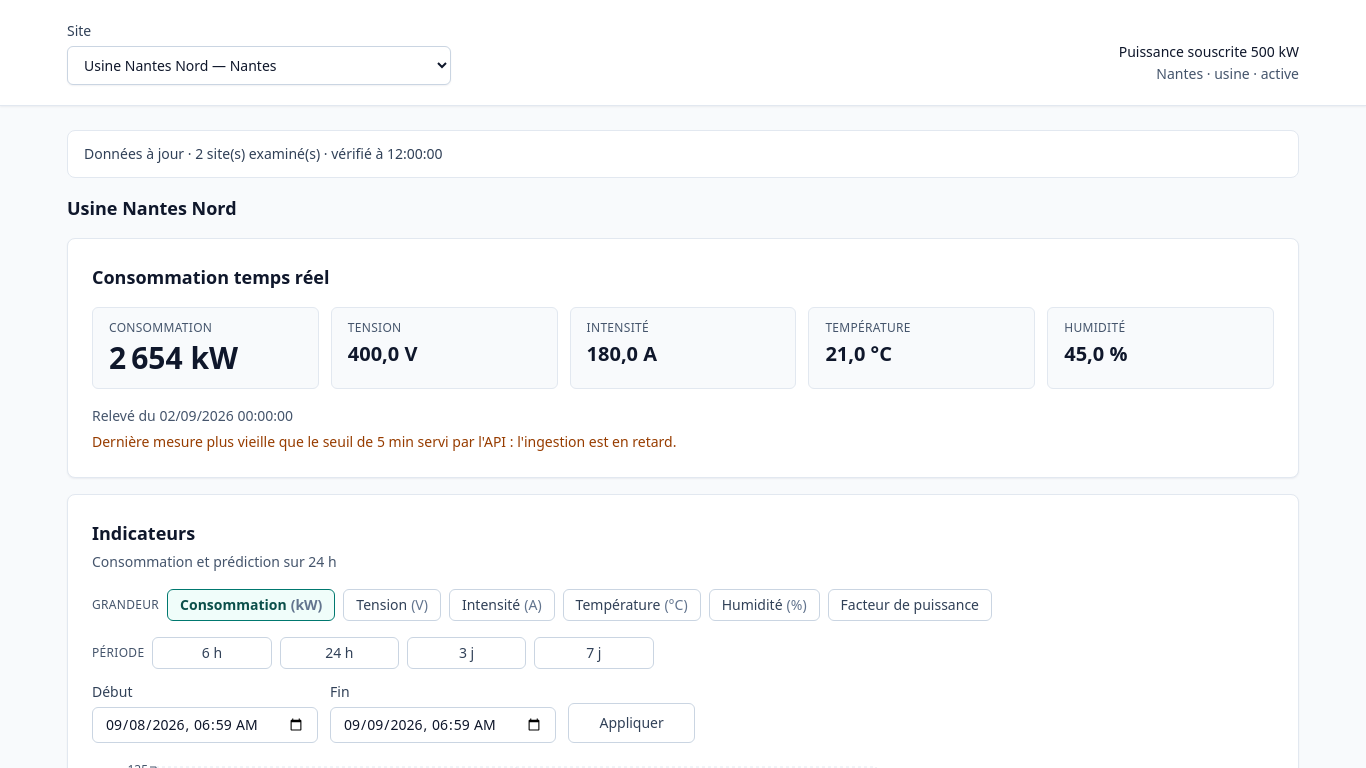
Test: SiteDashboardPage · grandeur tracée › dit que le modèle ne prévoit que la consommation
Click the button "Tension (V)" at (392, 605), box [343,589,441,621]
(page scrolled)
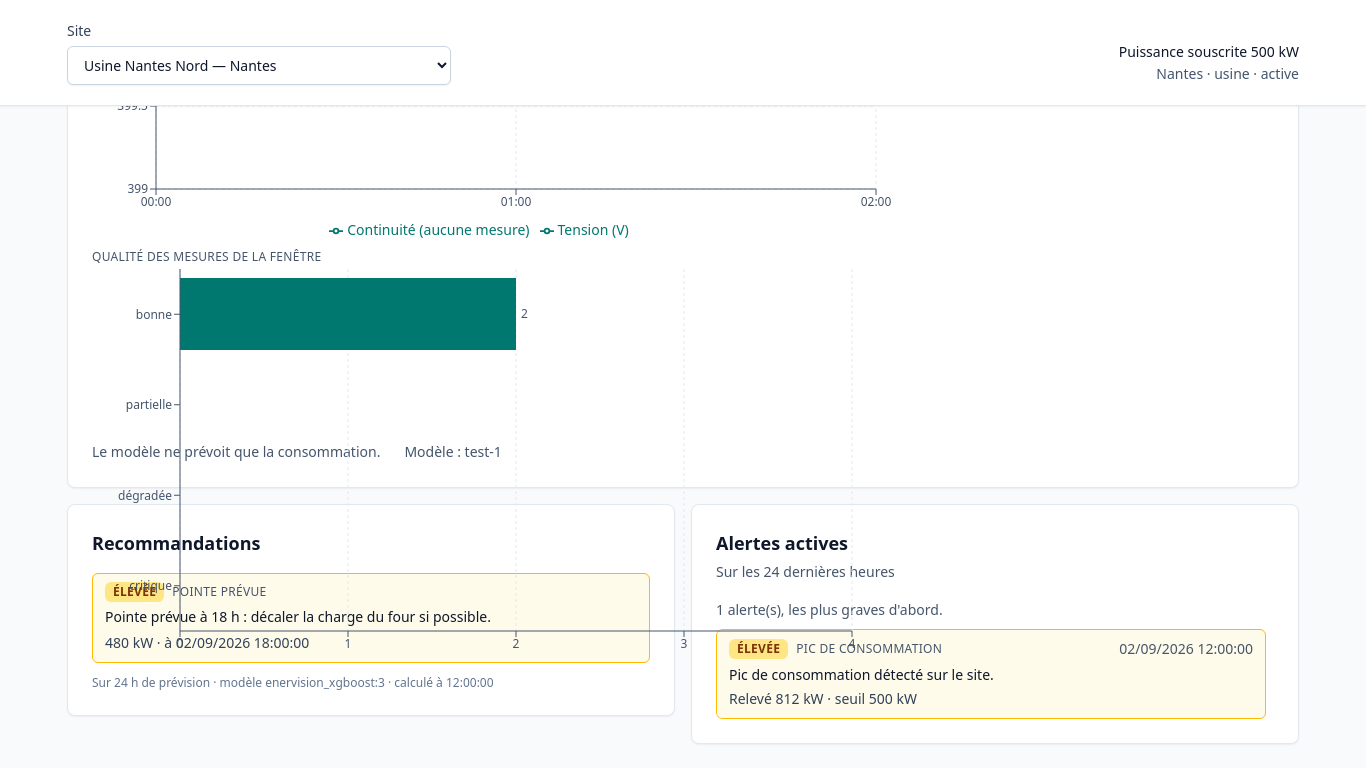
Now the list item "Le modèle ne prévoit que la consommation." is shown, box [92,441,380,463]
